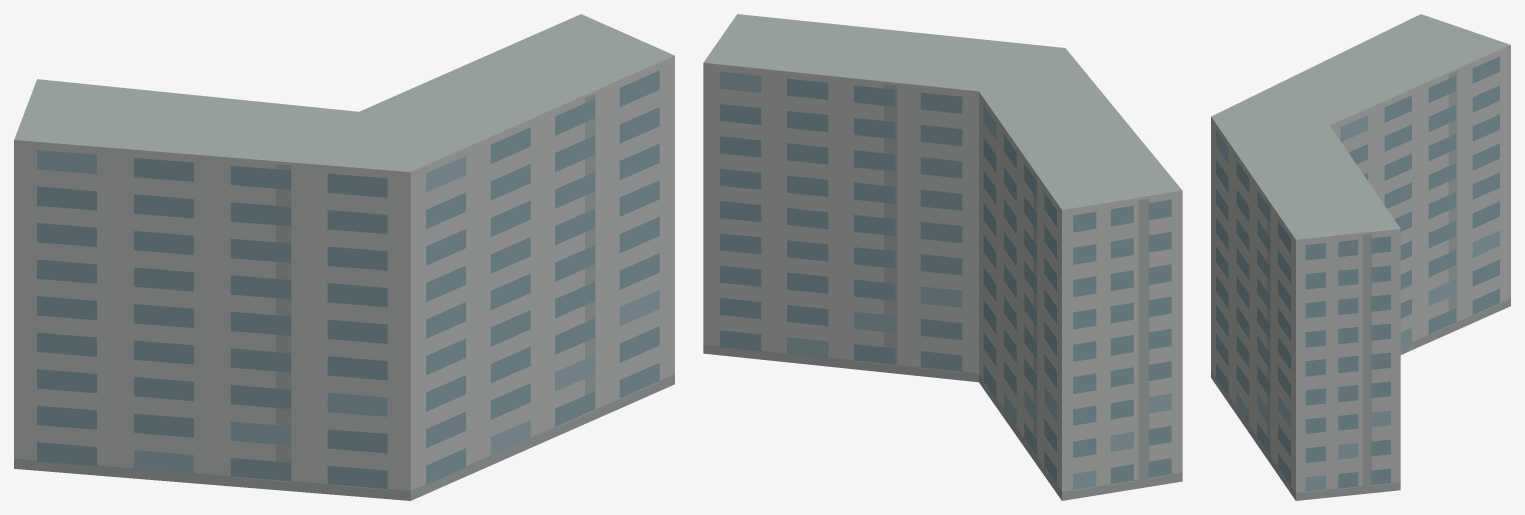
The model's file is residential-e81d6697-adf1-4e8c-94e7-4291353ce041.glb.
The picture shows the model from 3 angles, left to right: view 1: azimuth 30°, elevation 25°; view 2: azimuth 150°, elevation 25°; view 3: azimuth 270°, elevation 25°; orthographic projection. The views are drawn at different scales.
Visible parts, largest first — view 1: residential-e81d6697-adf1-4e8c-94e7-4291353ce041.tmp; view 2: residential-e81d6697-adf1-4e8c-94e7-4291353ce041.tmp; view 3: residential-e81d6697-adf1-4e8c-94e7-4291353ce041.tmp.
Boxes of the visible parts, x1=… form: residential-e81d6697-adf1-4e8c-94e7-4291353ce041.tmp: x1=14, y1=14, x2=674, y2=500; residential-e81d6697-adf1-4e8c-94e7-4291353ce041.tmp: x1=703, y1=14, x2=1182, y2=500; residential-e81d6697-adf1-4e8c-94e7-4291353ce041.tmp: x1=1211, y1=14, x2=1510, y2=500.
Size of the model in its own units: 51.88 by 28 by 29.13.
